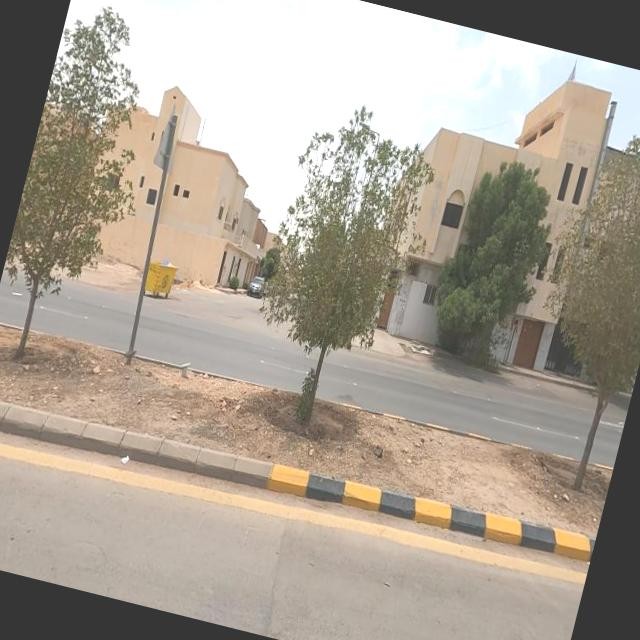debris: (138, 229, 199, 303), (93, 420, 150, 492), (0, 264, 42, 325)
